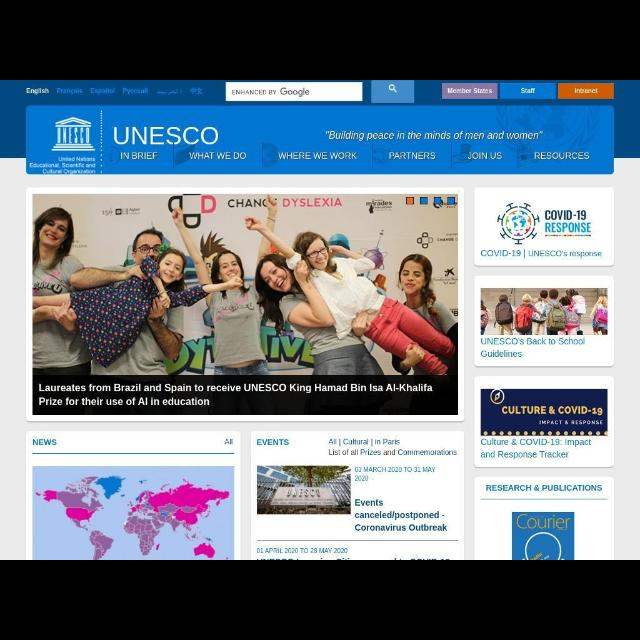backgroundimage: (33, 194, 459, 414), (31, 464, 235, 560), (480, 287, 608, 337), (479, 388, 608, 434), (256, 466, 352, 516), (512, 511, 574, 559)
button: (371, 80, 415, 102)
icon: (389, 85, 399, 97)
image: (491, 201, 541, 245), (49, 114, 97, 154)
input: (226, 81, 362, 102)
text: (37, 382, 435, 406), (355, 500, 451, 530), (481, 338, 587, 362), (480, 438, 594, 460), (112, 124, 218, 146), (326, 130, 544, 140), (478, 246, 604, 260), (354, 465, 436, 481), (30, 158, 99, 176), (486, 484, 604, 494), (544, 208, 592, 232), (278, 148, 358, 162), (326, 449, 458, 456), (533, 148, 589, 162), (255, 546, 348, 554), (188, 150, 246, 162), (232, 89, 310, 97), (386, 150, 436, 162), (464, 148, 504, 160), (120, 150, 158, 162), (253, 436, 290, 448), (448, 86, 492, 94), (157, 88, 183, 99), (56, 87, 84, 97), (122, 86, 150, 96), (572, 86, 600, 96), (344, 436, 372, 446), (32, 437, 58, 447), (90, 86, 118, 95), (378, 436, 400, 446), (25, 86, 49, 95), (189, 88, 205, 99), (328, 436, 338, 446), (522, 88, 534, 96), (224, 437, 233, 445)
textbutton: (444, 83, 498, 99), (501, 84, 555, 98), (558, 84, 612, 98)
